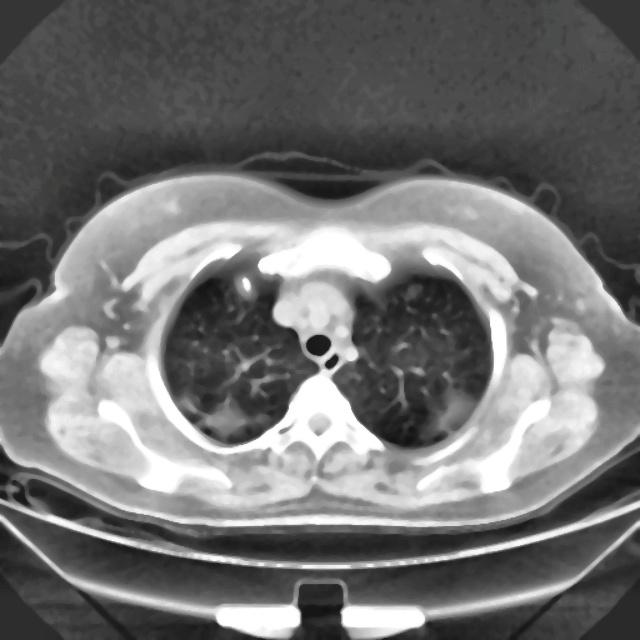covid: (1, 167, 638, 536)
